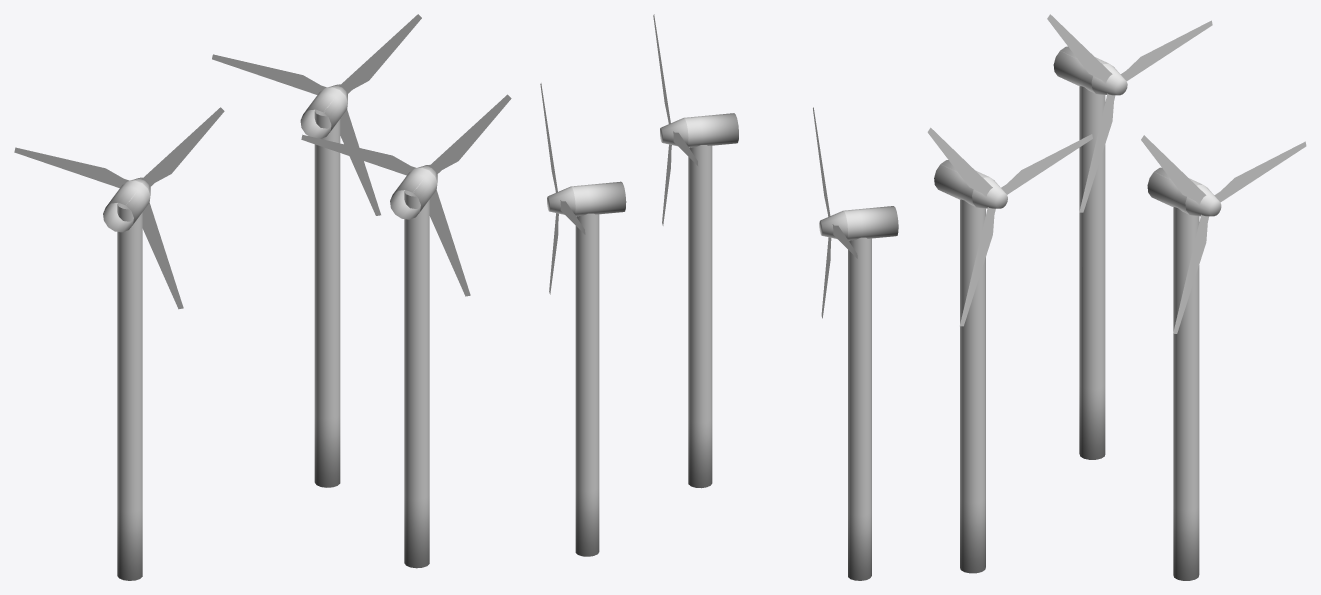
File: WindFarm.fbx
3 views of the same model, side by side, from view 1: azimuth 30°, elevation 25°; view 2: azimuth 150°, elevation 25°; view 3: azimuth 270°, elevation 25° (orthographic). The views are drawn at different scales.
Parts seen in each view (by area): view 1: pCylinder9, pCylinder11, pCylinder3, pCylinder4, pCylinder12, pCylinder10, pCube17, pCube5, pCube14, pCube18, pCube6, pCube15 (+3 smaller); view 2: pCylinder3, pCylinder9, pCylinder11, pCylinder12, pCylinder10, pCylinder4; view 3: pCylinder9, pCylinder11, pCylinder3, pCylinder4, pCylinder12, pCylinder10, pCube4, pCube13, pCube16, pCube5, pCube14, pCube15 (+3 smaller).
Part boxes in pixels (left/top/right/bottom): pCylinder9: left=314, top=109, right=340, bottom=487; pCylinder11: left=117, top=202, right=142, bottom=580; pCylinder3: left=404, top=190, right=429, bottom=568; pCylinder4: left=390, top=165, right=437, bottom=219; pCylinder12: left=103, top=177, right=150, bottom=232; pCylinder10: left=300, top=84, right=347, bottom=138; pCube17: left=141, top=107, right=224, bottom=187; pCube5: left=428, top=94, right=511, bottom=174; pCube14: left=339, top=14, right=421, bottom=93; pCube18: left=14, top=147, right=129, bottom=188; pCube6: left=301, top=134, right=415, bottom=175; pCube15: left=212, top=54, right=326, bottom=94; pCylinder3: left=688, top=145, right=712, bottom=488; pCylinder9: left=575, top=213, right=599, bottom=556; pCylinder11: left=848, top=237, right=871, bottom=580; pCylinder12: left=819, top=206, right=898, bottom=240; pCylinder10: left=547, top=181, right=626, bottom=216; pCylinder4: left=660, top=113, right=738, bottom=147; pCylinder9: left=1173, top=207, right=1199, bottom=580; pCylinder11: left=1079, top=86, right=1105, bottom=459; pCylinder3: left=960, top=199, right=985, bottom=573; pCylinder4: left=934, top=160, right=1007, bottom=208; pCylinder12: left=1053, top=46, right=1127, bottom=95; pCylinder10: left=1147, top=167, right=1221, bottom=216; pCube4: left=960, top=207, right=995, bottom=326; pCube13: left=1173, top=214, right=1209, bottom=333; pCube16: left=1079, top=93, right=1115, bottom=212; pCube5: left=927, top=127, right=992, bottom=196; pCube14: left=1141, top=135, right=1206, bottom=204; pCube15: left=1214, top=141, right=1306, bottom=202.
Size of the model in its own units: 78.48 by 93.89 by 67.88.
